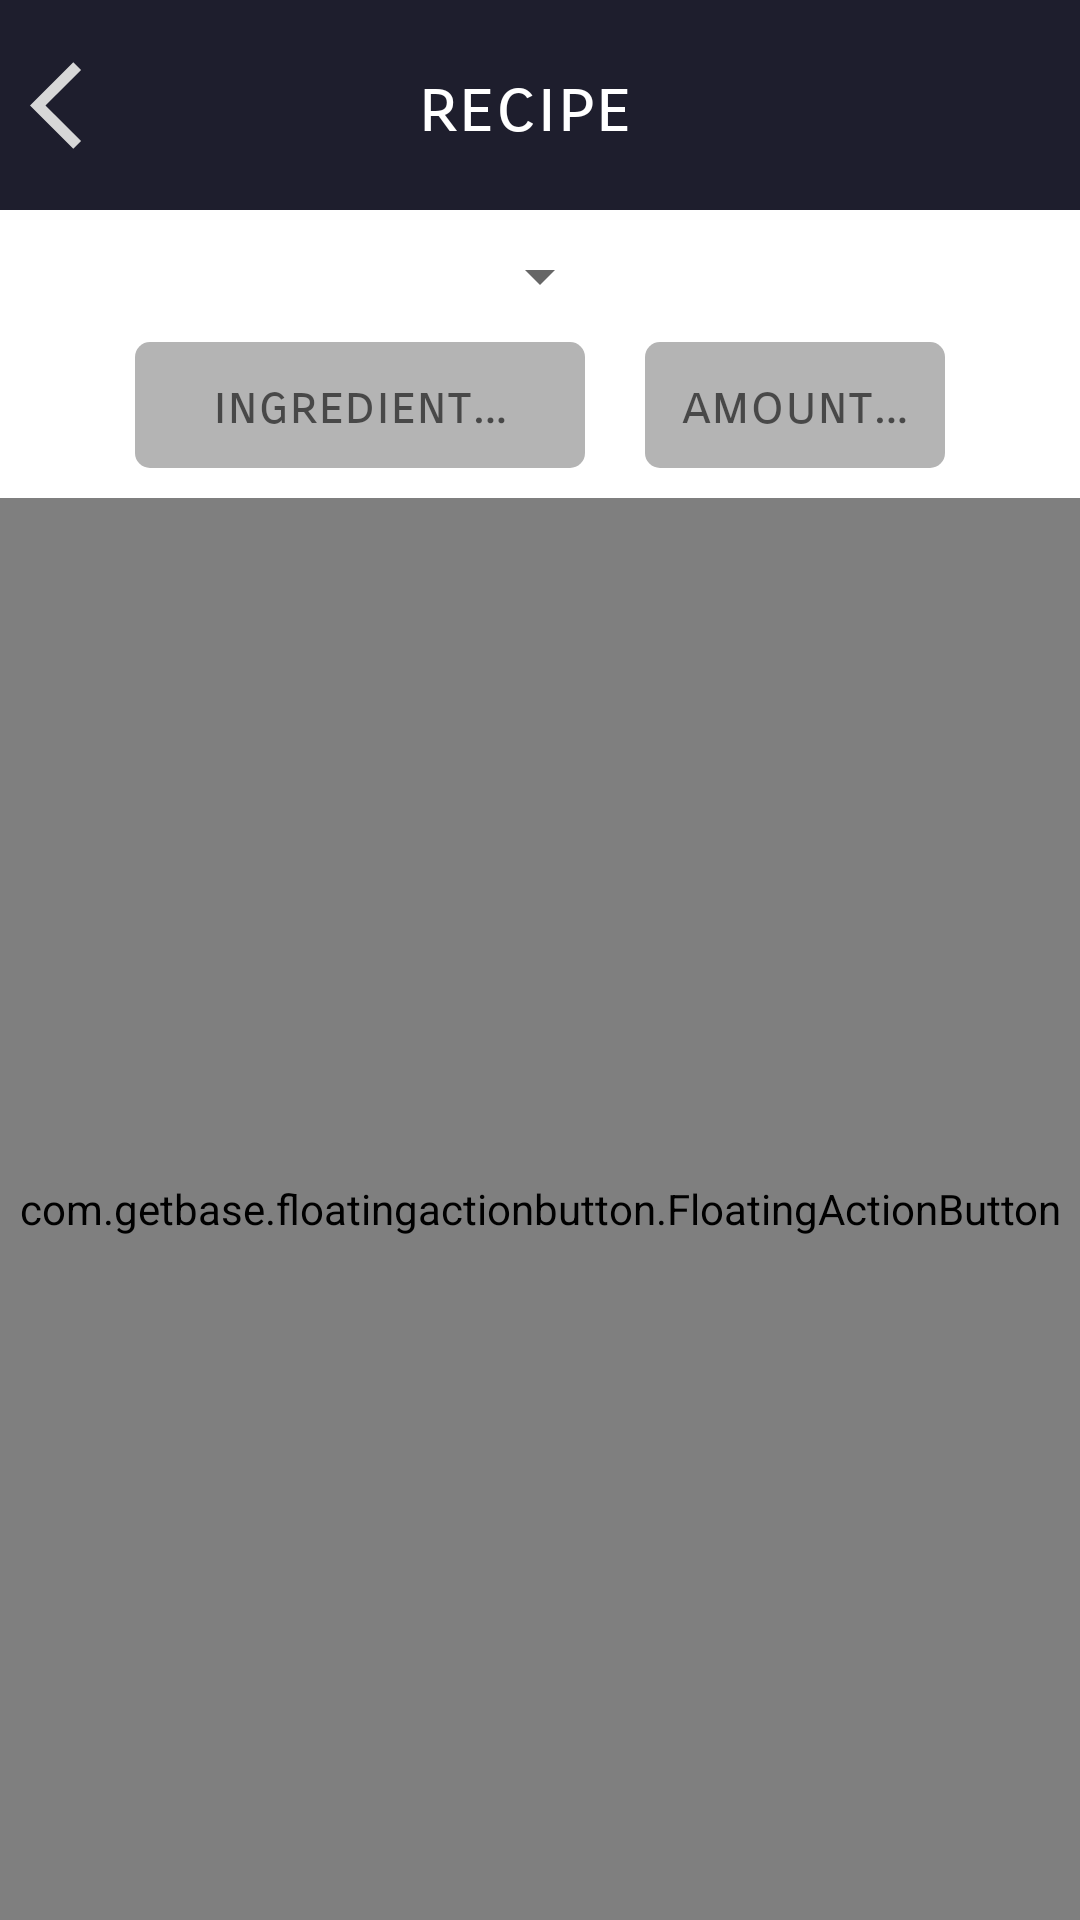

Screen size 1080 x 1920. Icon name, then its box in pixels as (x1, y1, x2, y2):
back button: (30, 62, 81, 149)
